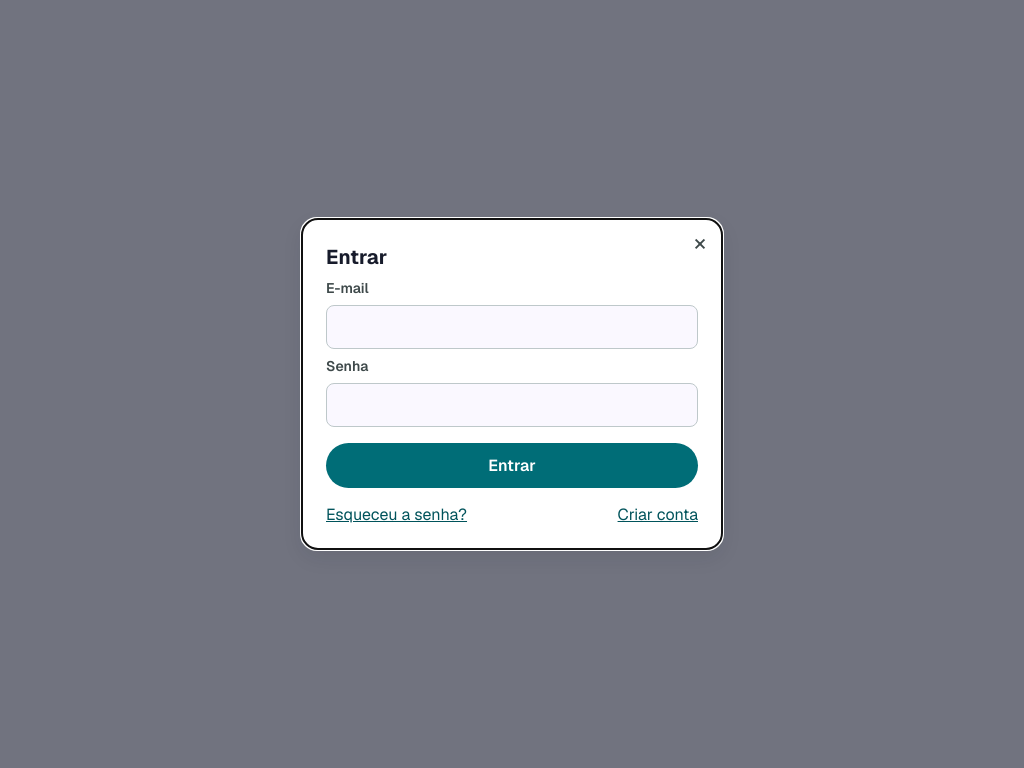
Test case: AuthOverlay › given the login form when Criar conta is clicked then the signup form is shown in place
Click the button "Criar conta".
click(658, 514)  # box [618,504,698,525]
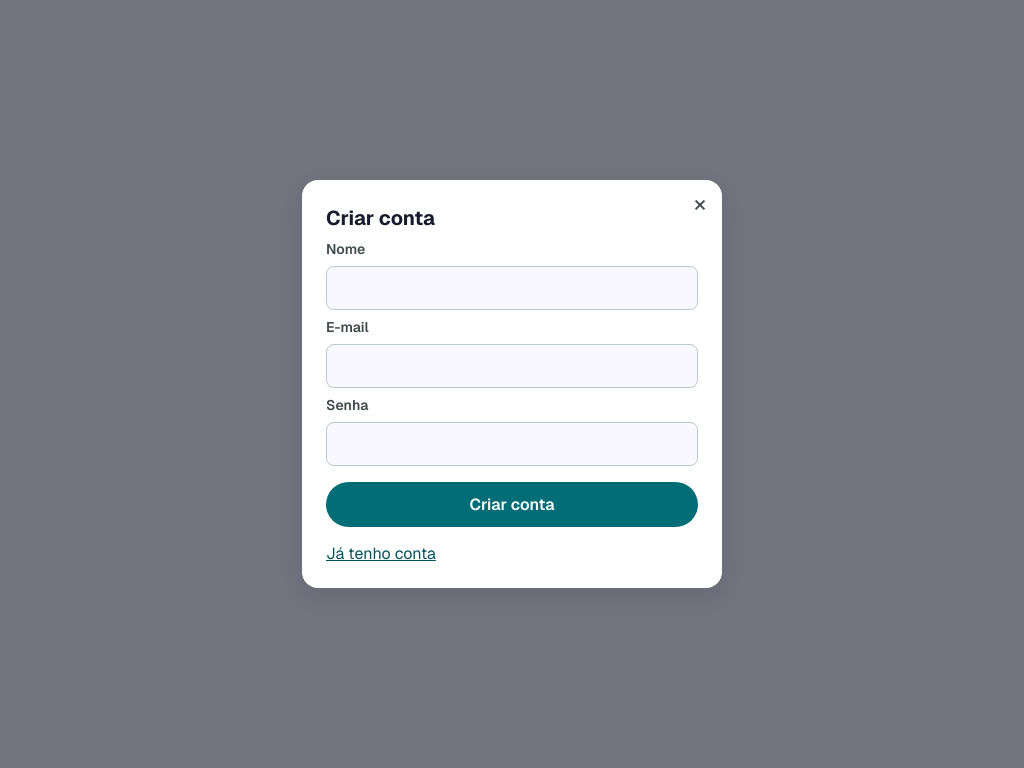
Now the heading "Criar conta" is shown, box [326,205,435,231]
